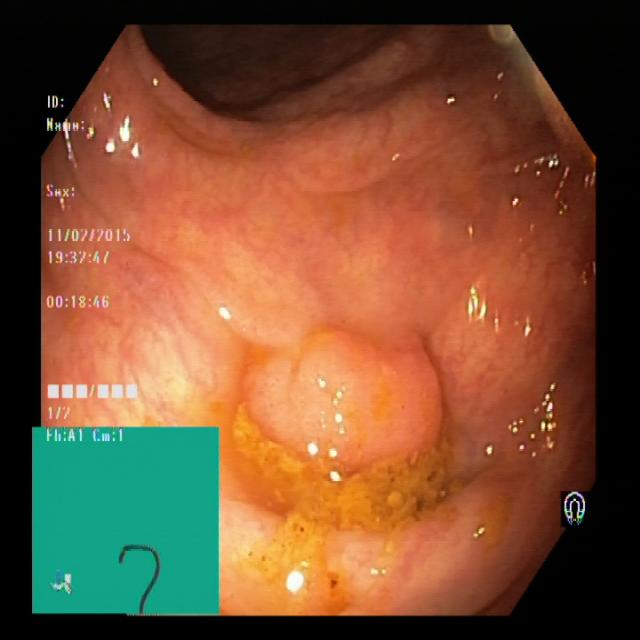Polyps: (220, 320, 461, 618)
